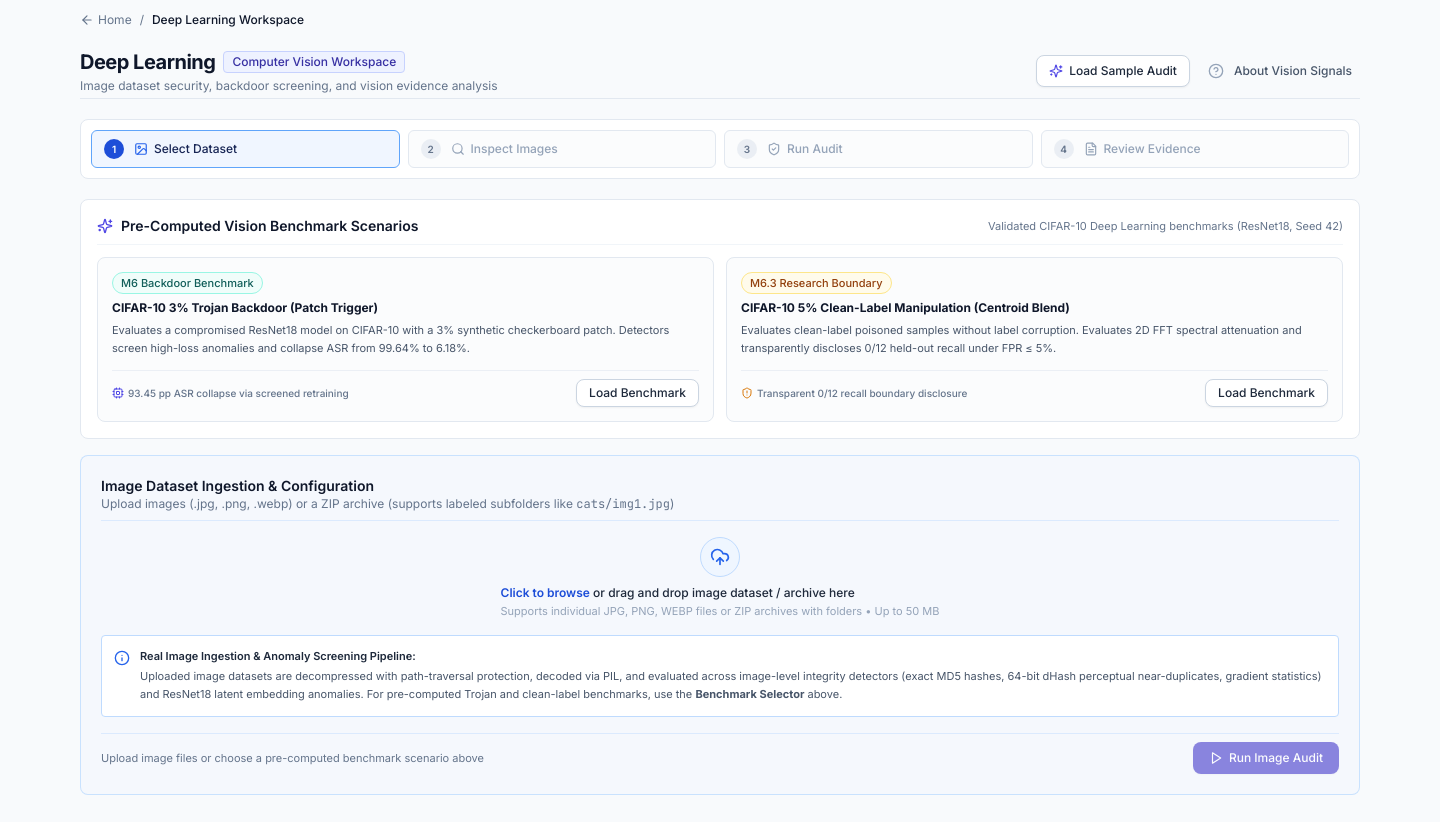
it: DeepLearningPage Workspace › displays honest error notification when benchmark loading fails
Step 1. Click the button "Load Sample Audit" → {"x": 1113, "y": 71}, box [1036,55,1190,87]
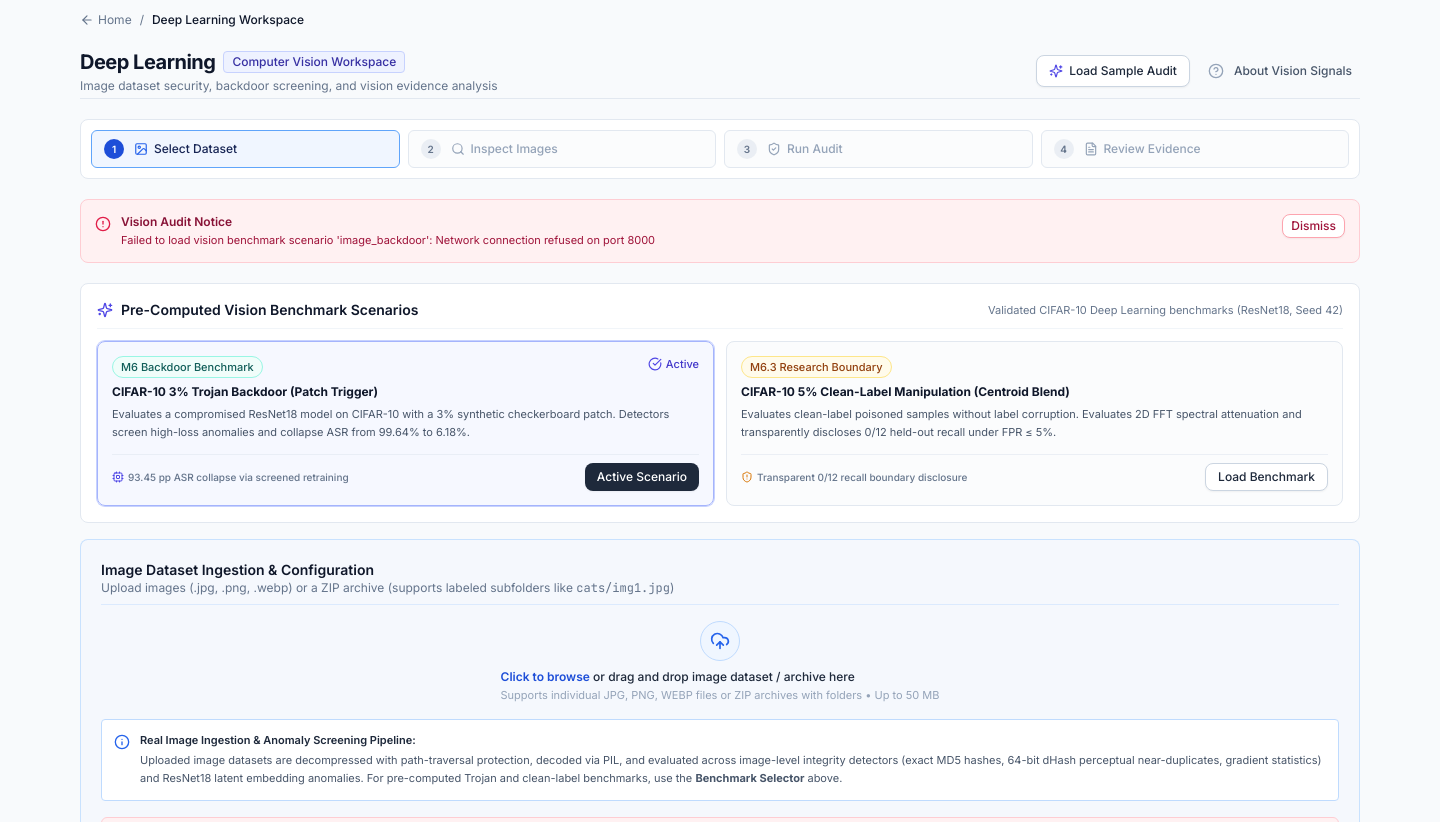
expect the text "Failed to load vision benchmark scenario 'image_backdoor'" is shown: met, box [121,233,655,247]
